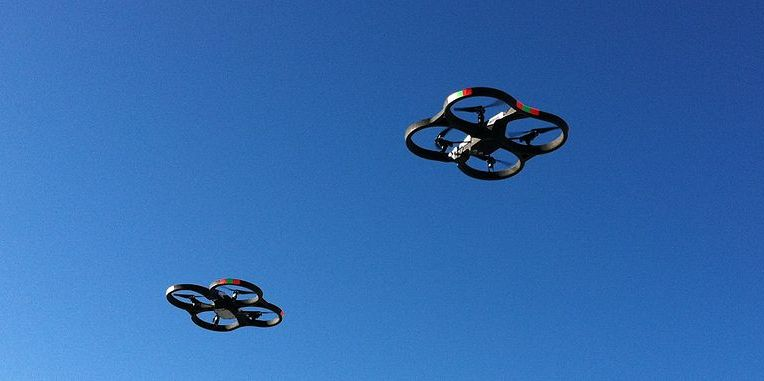drone: (404, 88, 572, 183), (164, 277, 286, 334)
